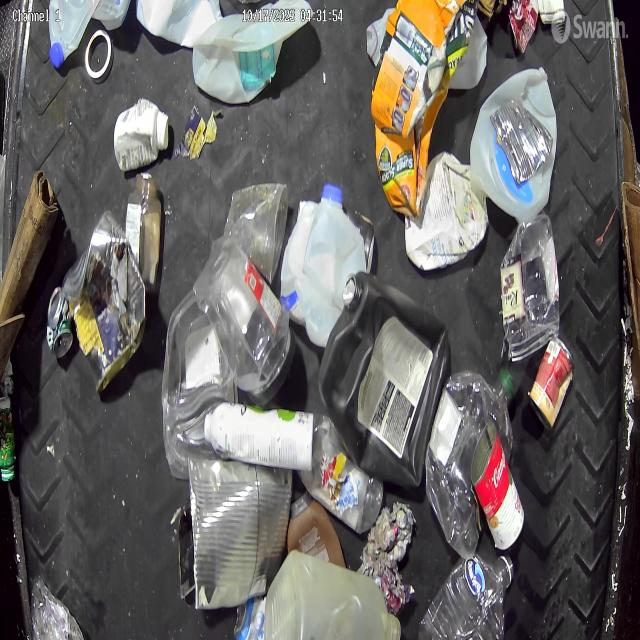can: (188, 456, 294, 610), (63, 210, 146, 395), (470, 421, 524, 550), (491, 100, 553, 184), (528, 336, 575, 434), (45, 284, 74, 358), (508, 1, 539, 54)
milk_jug: (471, 65, 558, 224), (280, 184, 366, 344), (192, 0, 314, 105), (260, 550, 398, 640), (136, 0, 225, 49), (47, 0, 102, 71)
non_white_jug: (318, 272, 450, 487)
plastic_bottle: (424, 366, 516, 557)
